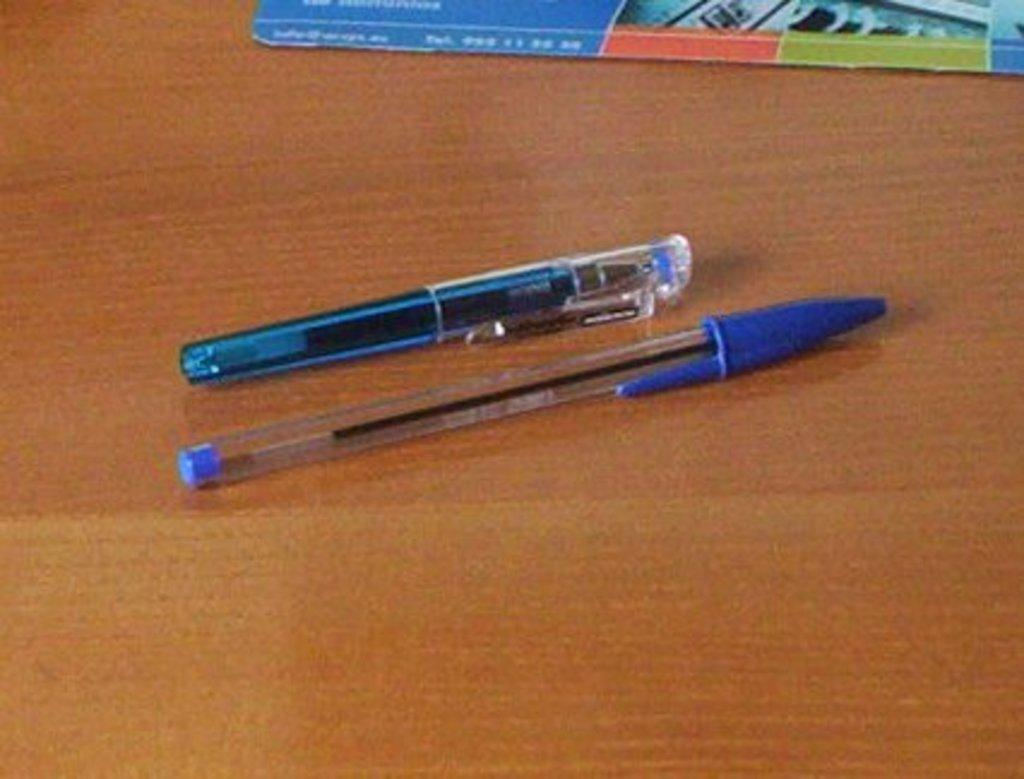pen: (175, 296, 887, 495), (178, 226, 692, 387)
